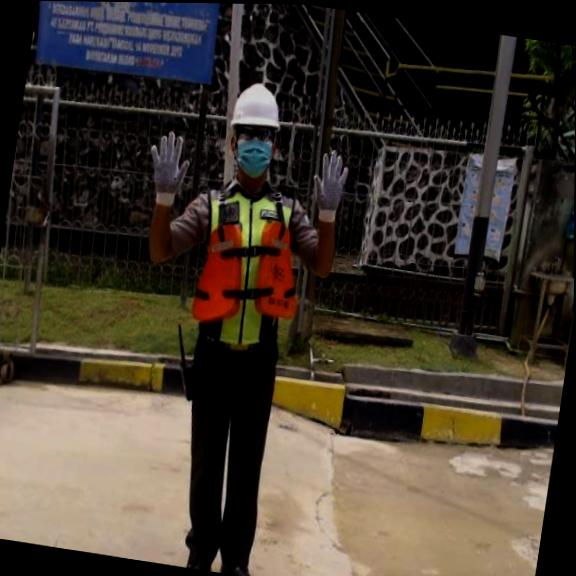safety_vest: (188, 204, 310, 342)
